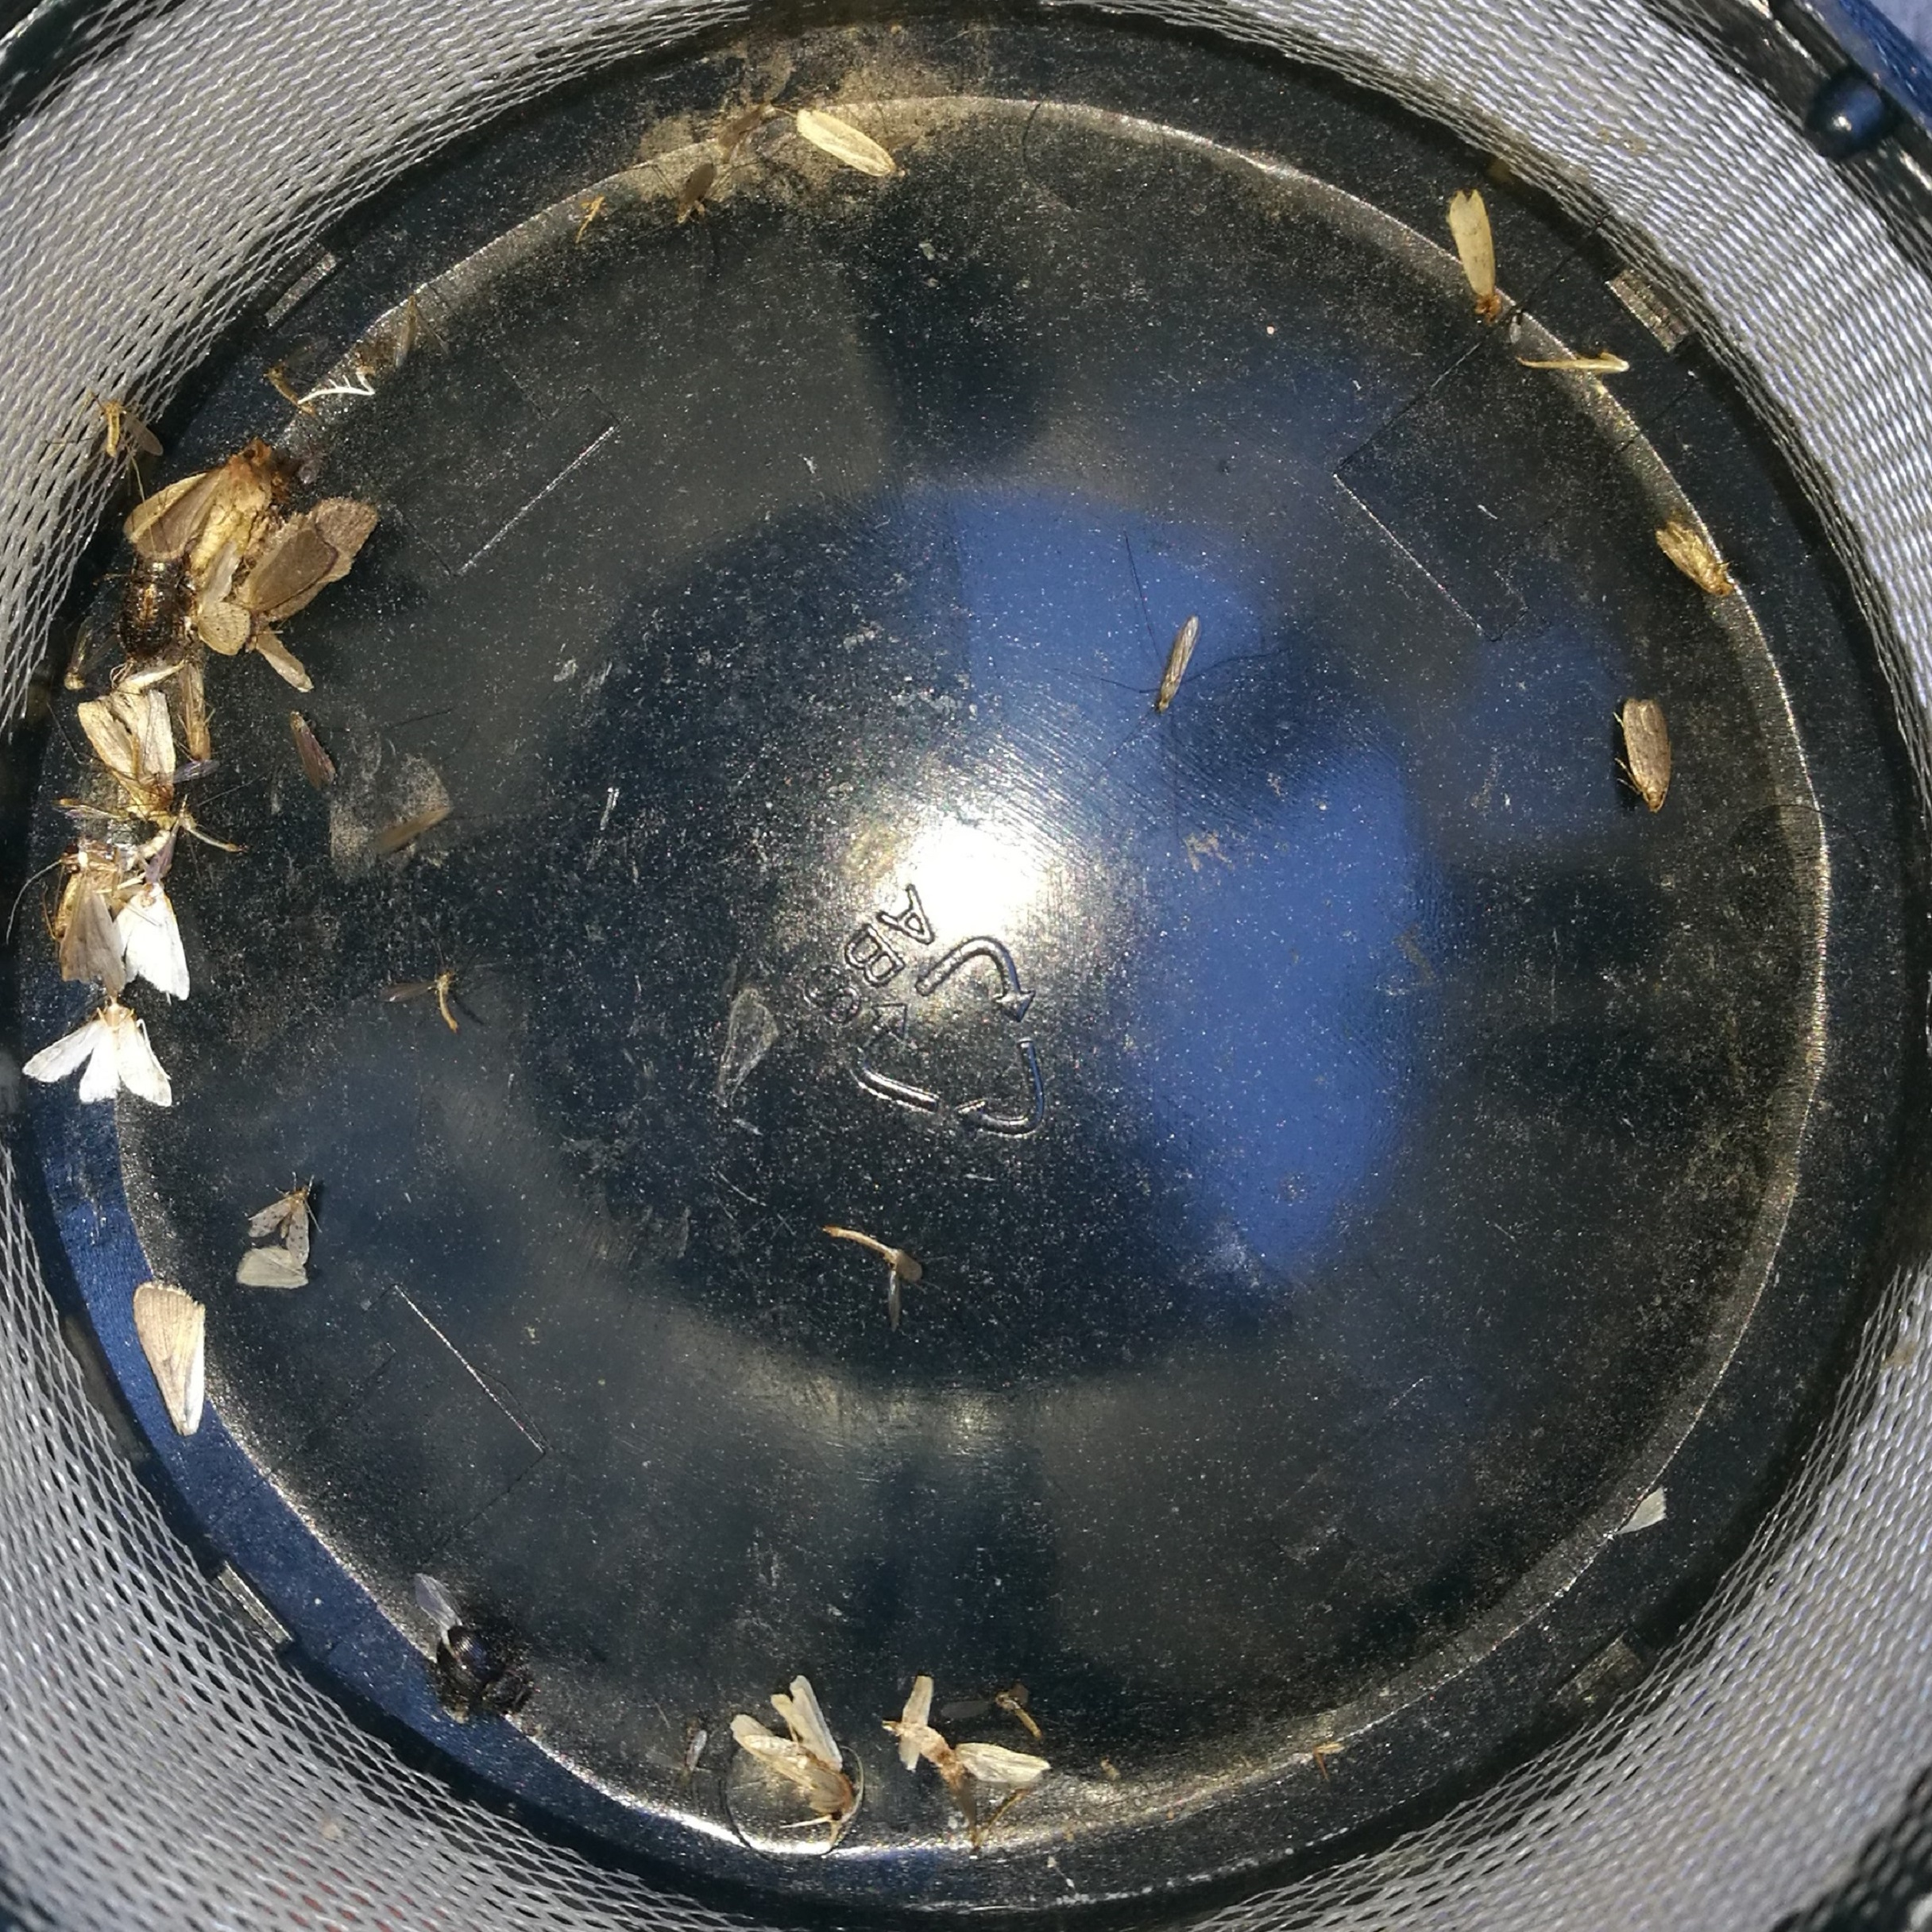mosquito: (1449, 188, 1502, 315), (1656, 522, 1730, 602)
moth: (124, 442, 280, 586), (25, 998, 173, 1111), (78, 683, 175, 814), (117, 881, 193, 1000), (51, 870, 120, 991), (1612, 697, 1674, 814), (251, 1185, 310, 1269)
